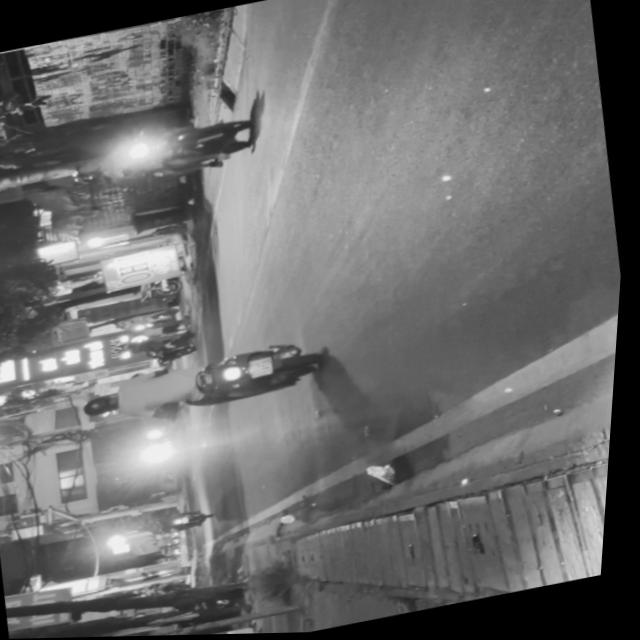helmet: (84, 390, 124, 417), (72, 162, 105, 183)
licenseplate: (78, 332, 335, 435), (62, 107, 264, 197)
nohelmet: (251, 356, 278, 378)
